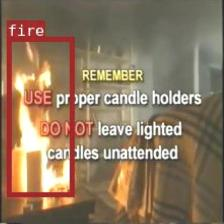fire: (6, 36, 74, 196)
